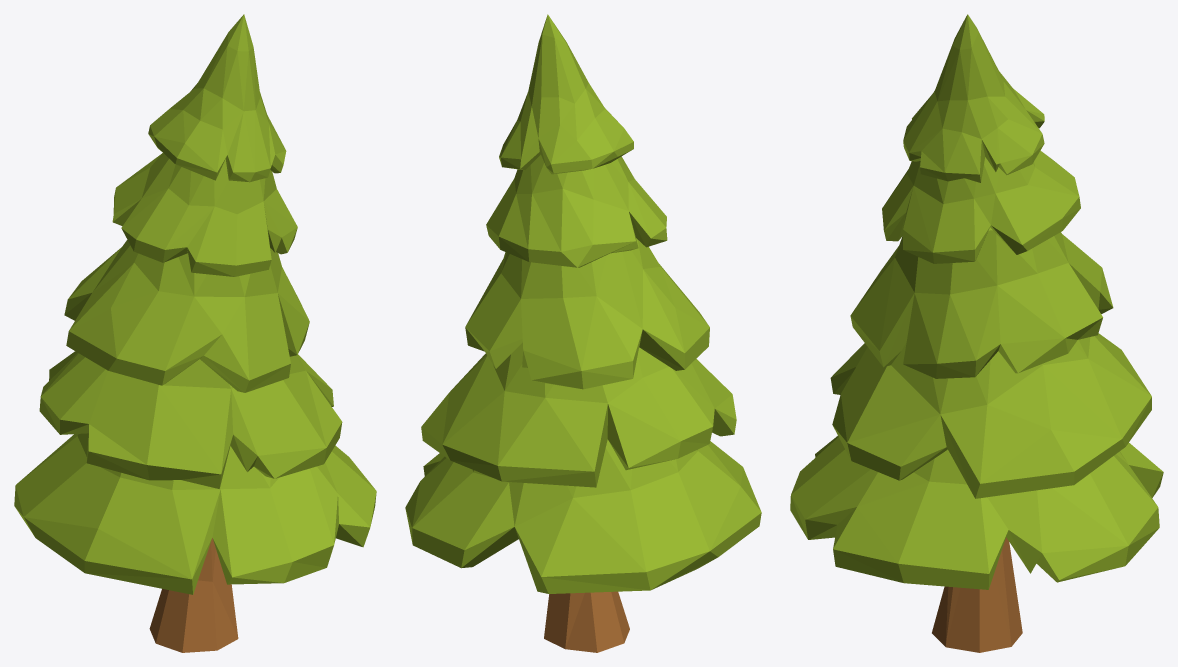
Rendered from tree_07.glb.
3 renders of one model, left to right at view 1: azimuth 30°, elevation 25°; view 2: azimuth 150°, elevation 25°; view 3: azimuth 270°, elevation 25°, orthographic. The views are drawn at different scales.
Visible parts, largest first — view 1: Lowpoly_Tree_07_Material.004_0, Lowpoly_Tree_07_Material_0; view 2: Lowpoly_Tree_07_Material.004_0, Lowpoly_Tree_07_Material_0; view 3: Lowpoly_Tree_07_Material.004_0, Lowpoly_Tree_07_Material_0.
Boxes of the visible parts, x1,y1,x2,y2 form: Lowpoly_Tree_07_Material.004_0: (14,14,376,594); Lowpoly_Tree_07_Material_0: (149,538,238,652); Lowpoly_Tree_07_Material.004_0: (405,14,761,593); Lowpoly_Tree_07_Material_0: (544,591,629,652); Lowpoly_Tree_07_Material.004_0: (790,14,1163,589); Lowpoly_Tree_07_Material_0: (932,537,1022,652).
Size of the model in its own units: 0.9832 by 1.87 by 0.9874.
